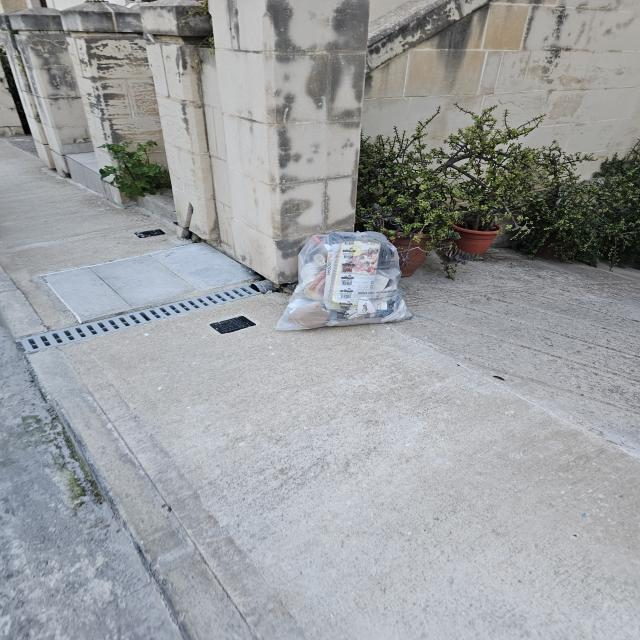grey_bag: (268, 228, 420, 333)
